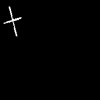single_crochet: (4, 7, 20, 35)
